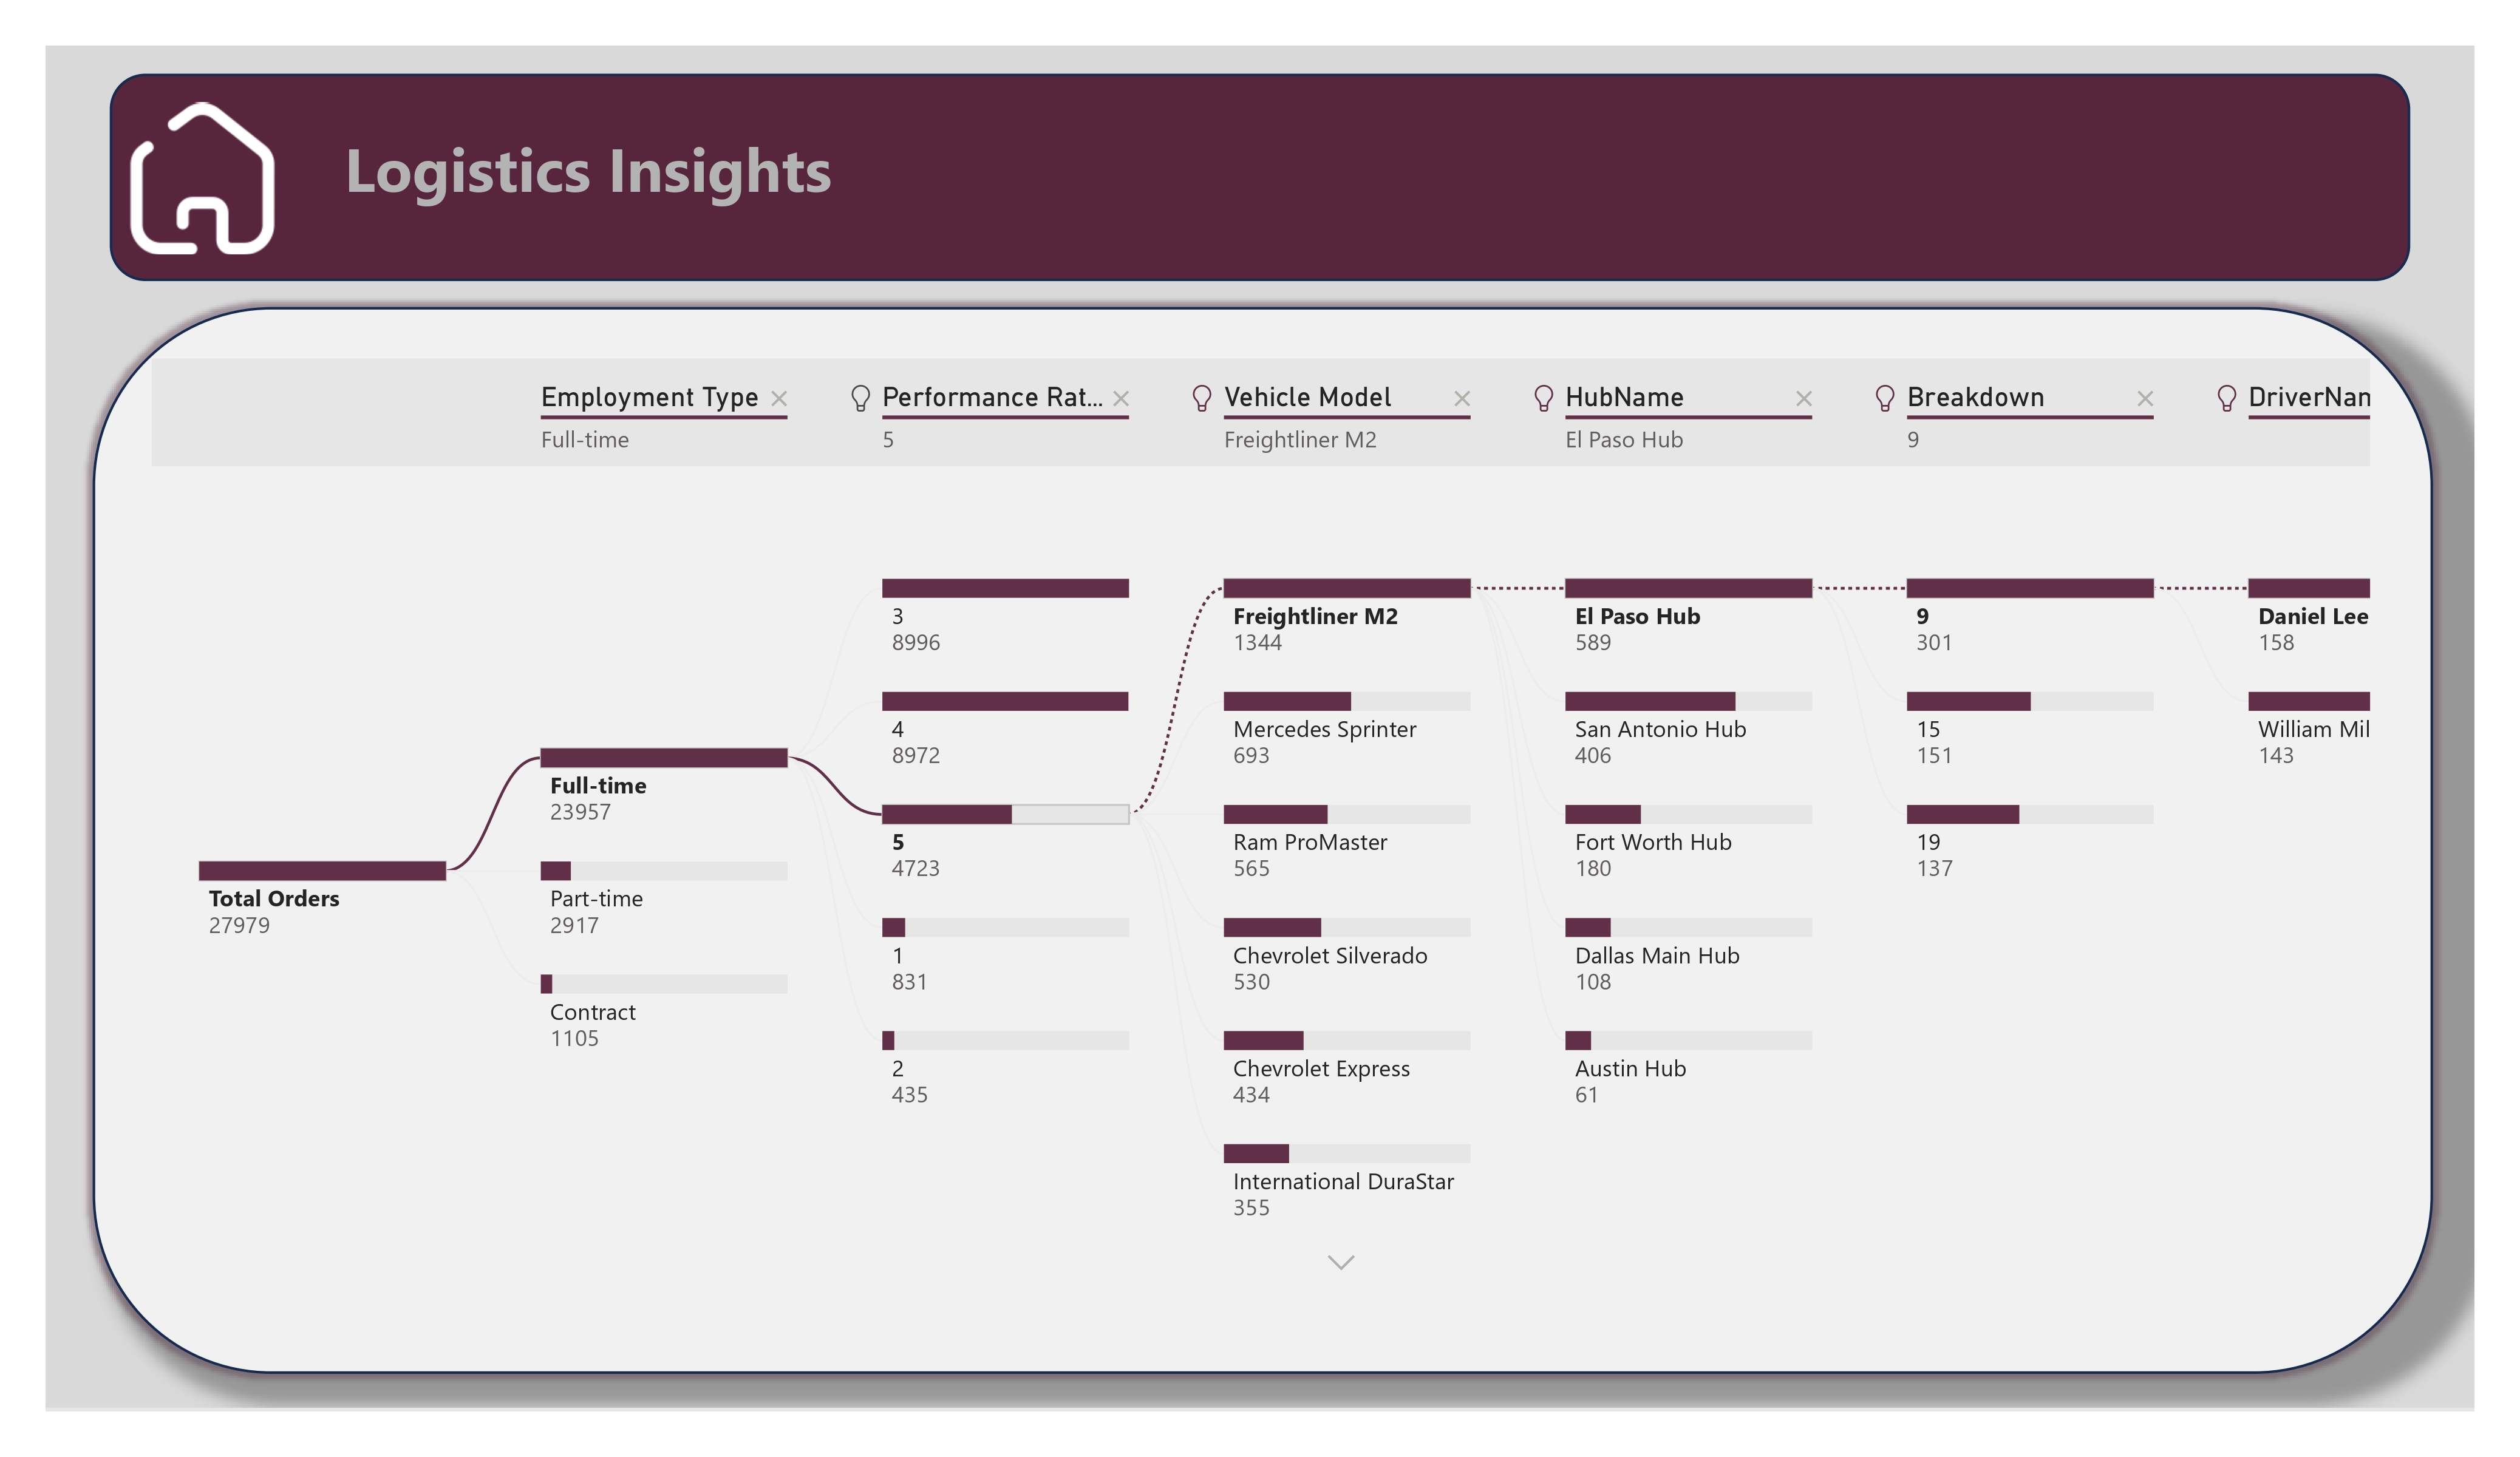

What the dashboard file says about the page in this screenshot:
{"tool":"powerbi","page":{"name":"Dcomp. Tree","canvas":[1280,720],"ordinal":5},"visuals":[{"type":"image","box":[1205.7,40.3,52.6,66.6],"z":0},{"type":"image","box":[175,71.3,50.8,50.8],"z":2000},{"type":"textbox","box":[167,24.3,385.4,61.4],"z":3000},{"type":"image","box":[84,23.8,82.4,91.9],"z":4000},{"type":"image","box":[3.2,49.1,90.3,50.7],"z":5000},{"type":"decompositionTreeVisual","fields":{"Analyze":["_Measures.Total Orders"],"ExplainBy":["Hubs.Hub Name","Drivers.Employment Type","Drivers.Driver Name","Vehicles.Vehicle Model","Vehicles.Vehicle Status"]},"box":[30.1,160,1227.9,532.4],"z":6000}]}

Visuals, with their boxes on the page's 1280x720 design canvas (x1, y1, x2, y2). These are canvas units, not pixel positions in the 2520x1457 screenshot, which may show the page scaled, cropped or inside an application window:
image: <region>1206, 40, 1258, 107</region>
image: <region>175, 71, 226, 122</region>
textbox: <region>167, 24, 552, 86</region>
image: <region>84, 24, 166, 116</region>
image: <region>3, 49, 94, 100</region>
decompositionTreeVisual - _Measures.Total Orders x Hubs.Hub Name: <region>30, 160, 1258, 692</region>
